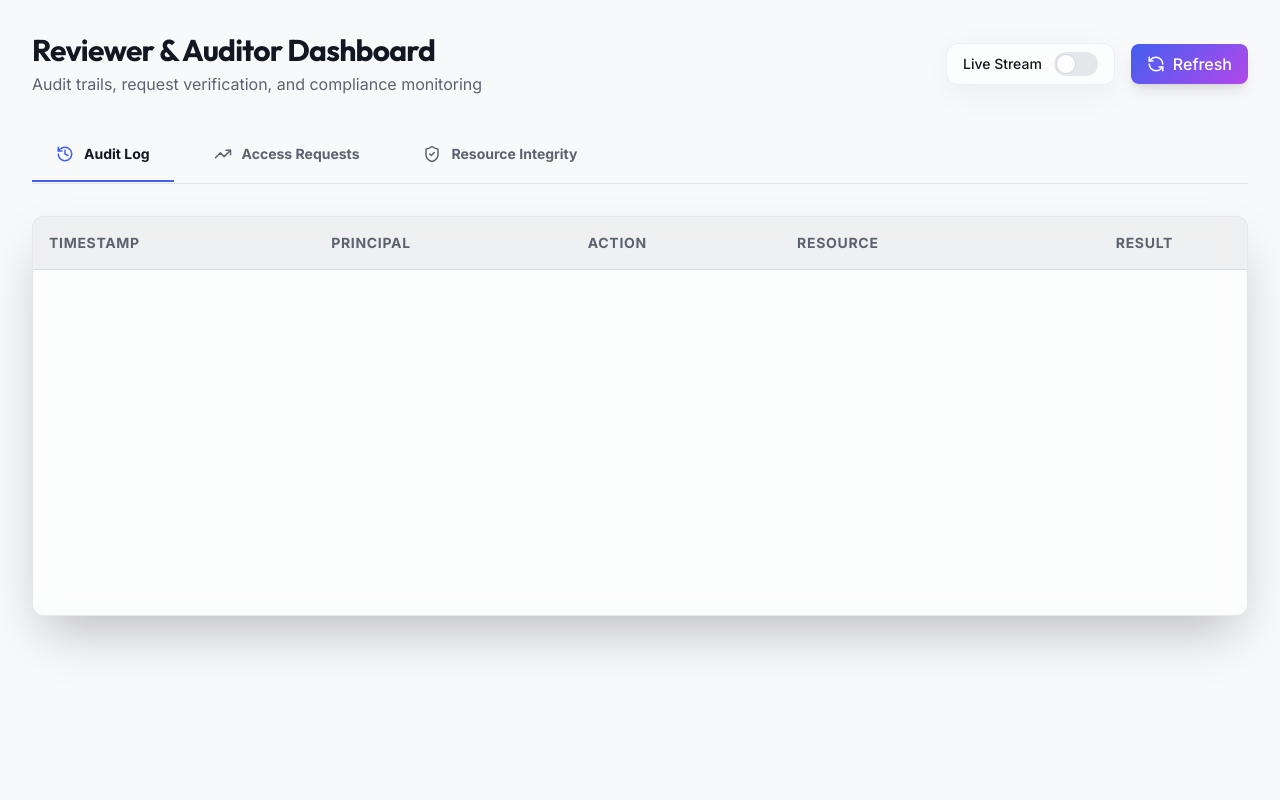
Test: ReviewerDashboard › updates request status via stream in Reviewer Dashboard
The image size is (1280, 800).
Click the button "Access Requests". click: (287, 155)
box: [190, 128, 384, 182]
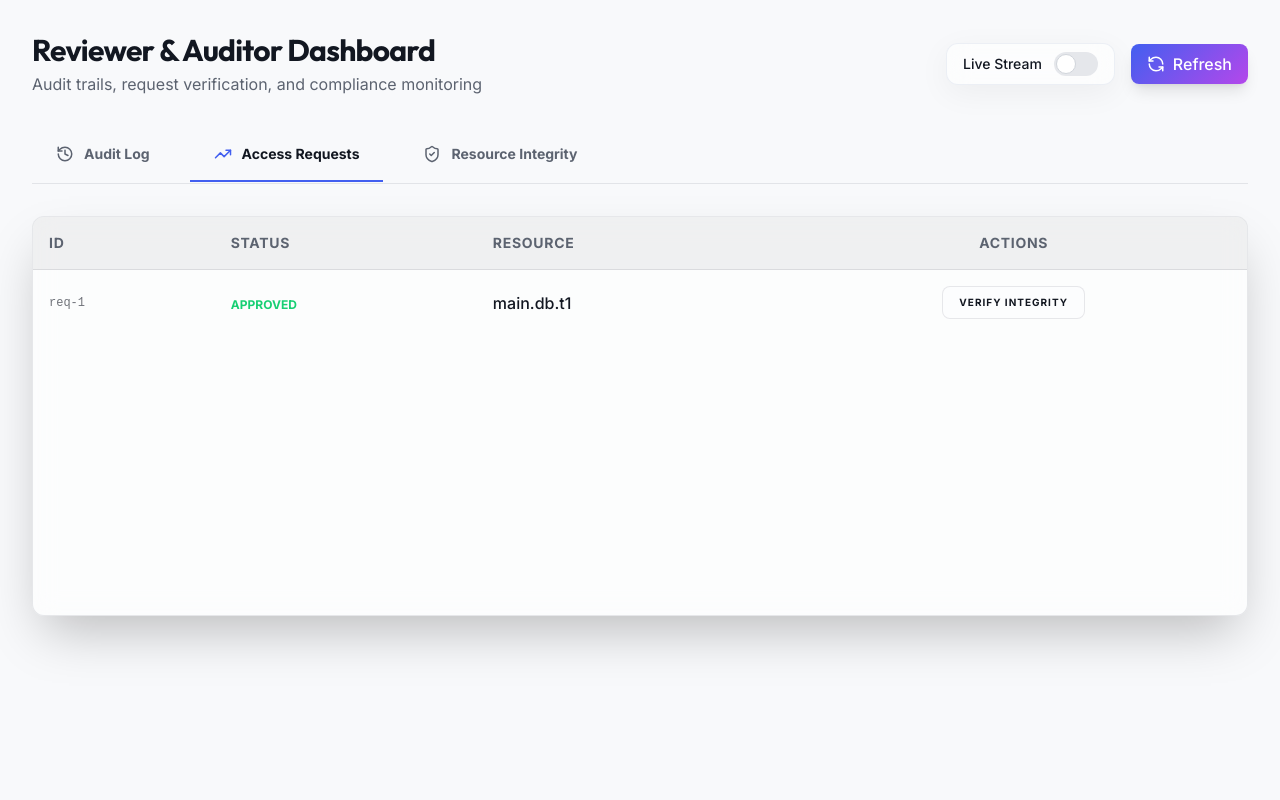
Expected: the text "req-1" is shown, [33, 270, 215, 335]
Note: Enable live
Click the checkbox. click: (1076, 64)
box: [1054, 52, 1098, 76]
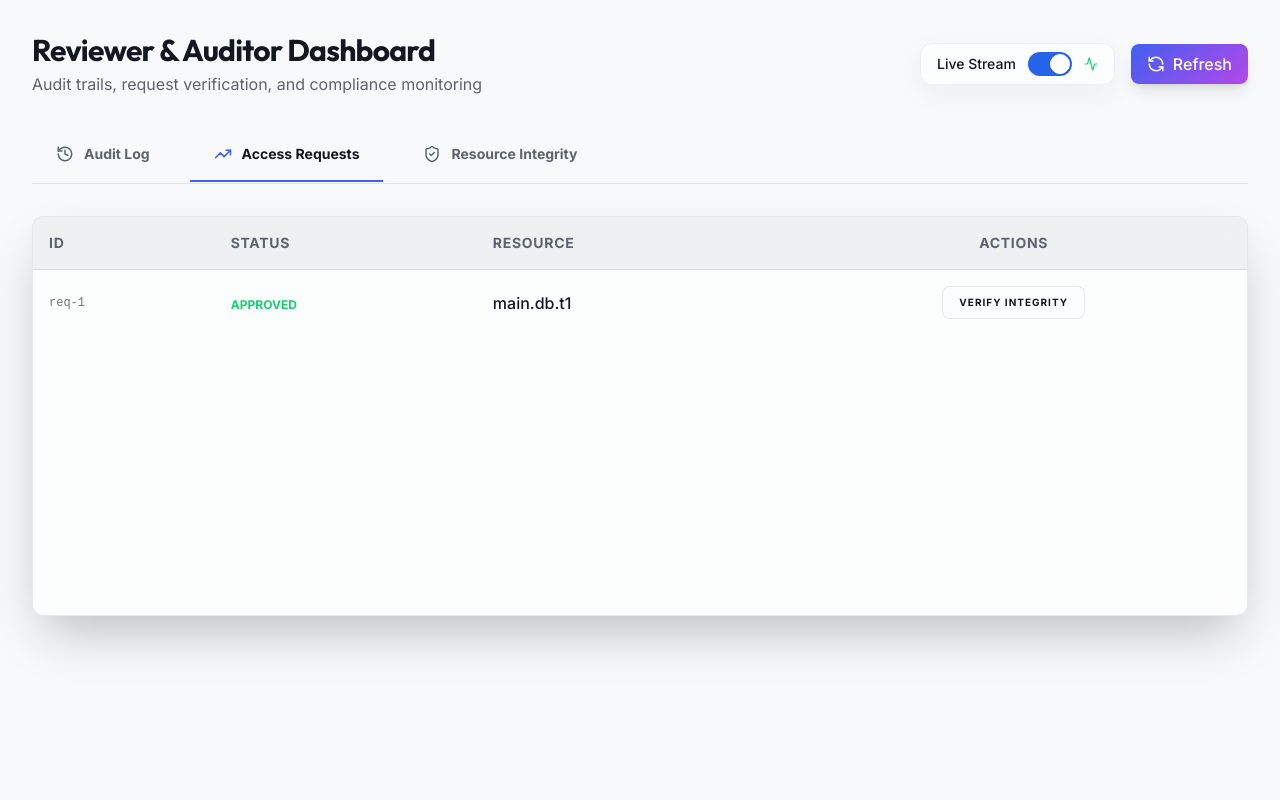
Note: Simulate update to "VERIFIED"
Click the checkbox. click: (1050, 64)
box: [1028, 52, 1072, 76]
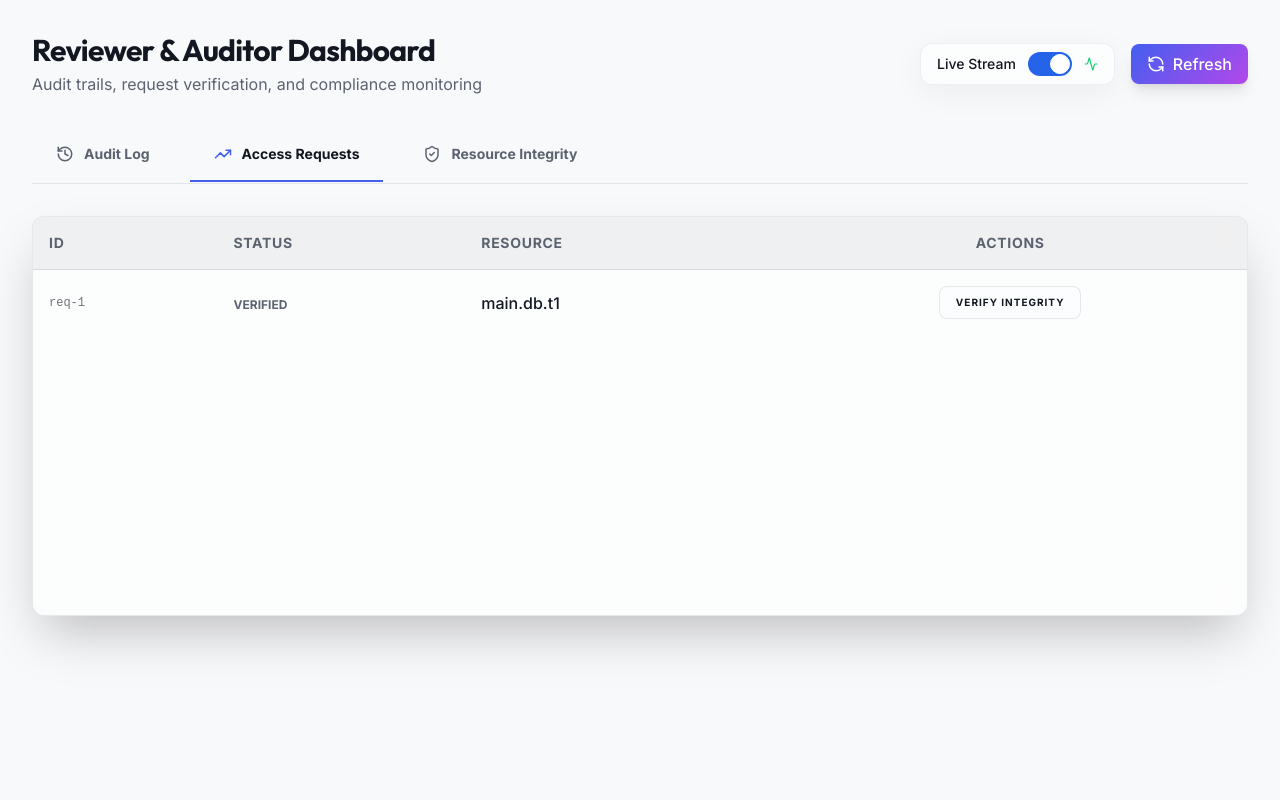
Expected: the text "VERIFIED" is shown, [234, 296, 287, 312]
